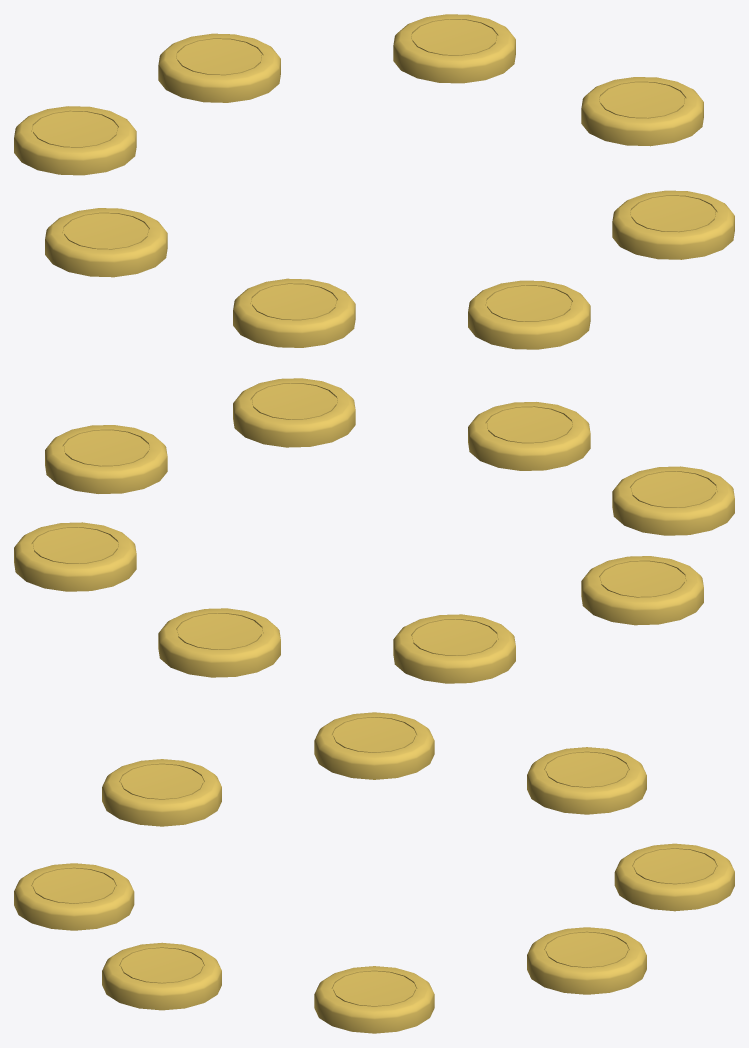
Rendered from ButtonRing.glb.
The picture shows the model from 3 angles, top to bottom: view 1: azimuth 30°, elevation 25°; view 2: azimuth 150°, elevation 25°; view 3: azimuth 270°, elevation 25°; orthographic projection. The views are drawn at different scales.
Parts seen in each view (by area): view 1: ButtonRing.001; view 2: ButtonRing.001; view 3: ButtonRing.001.
Part boxes in pixels (x1,y1,x2,y2): ButtonRing.001: (14, 14, 734, 349); ButtonRing.001: (14, 378, 734, 683); ButtonRing.001: (14, 712, 734, 1033).
Bounding box in the file's own units: 3 × 0.2109 × 3.
